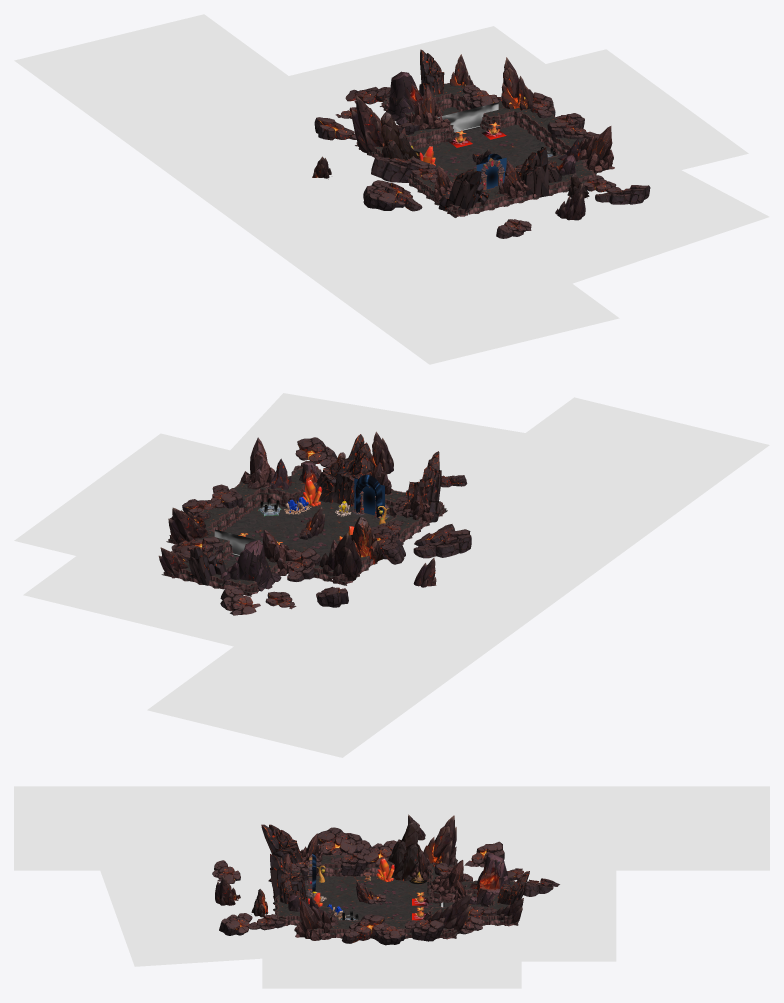
File: LevelMap_1070103.glb
3 views of the same model, one above another, from view 1: azimuth 30°, elevation 25°; view 2: azimuth 150°, elevation 25°; view 3: azimuth 270°, elevation 25° (orthographic). The views are drawn at different scales.
Parts seen in each view (by area): view 1: EnvCavern_Detail__Lava_1__u1616, EnvCavern_Detail__Lava_5__u1767, EnvCavern_Detail__Lava__u2083, EnvCavern_Detail__Lava_4__u1609, New_Terrain_2__u2321, EnvCavern_Detail__Lava_2__u2191, EnvCavern_Detail__Lava_3__u2456, EnvCavern_Detail__Rock___4__u1437, EnvCavern_Detail__Rock___6__u1628, EnvCavern_Detail__Rock___2__u1672, EnvCavern_Detail__Rock___4__u2497, EnvCavern_Detail__Rock___5__u1691 (+12 smaller); view 2: EnvCavern_Detail__Lava_1__u1616, EnvCavern_Detail__Lava_5__u1767, EnvCavern_Detail__Lava__u2083, EnvCavern_Detail__Lava_4__u1609, EnvCavern_Detail__Lava_3__u2456, New_Terrain_2__u2321, EnvCavern_Detail__Lava_2__u2191, EnvCavern_Detail__Rock___6__u1628, EnvCavern_Detail__Rock___4__u2497, EnvCavern_Detail__Rock___4__u1437, EnvCavern_Detail__Rock___2__u1672, EnvCavern_Detail__Rock___3__u1907 (+10 smaller); view 3: EnvCavern_Detail__Lava_1__u1616, EnvCavern_Detail__Lava_5__u1767, EnvCavern_Detail__Lava__u2083, EnvCavern_Detail__Lava_4__u1609, New_Terrain_2__u2321, EnvCavern_Detail__Lava_3__u2456, EnvCavern_Detail__Lava_2__u2191, EnvCavern_Detail__Rock___1__u2157, EnvCavern_Detail__Rock___6__u1628, EnvCavern_Detail__Rock___2__u1672, EnvCavern_Detail__Rock___5__u1691, EnvCavern_Detail__Rock___4__u1437 (+19 smaller).
Part boxes in pixels (bbox=[...]): EnvCavern_Detail__Lava_1__u1616: bbox=[14, 14, 619, 364]; EnvCavern_Detail__Lava_5__u1767: bbox=[399, 151, 769, 297]; EnvCavern_Detail__Lava__u2083: bbox=[474, 49, 748, 185]; EnvCavern_Detail__Lava_4__u1609: bbox=[218, 26, 553, 137]; New_Terrain_2__u2321: bbox=[413, 124, 558, 182]; EnvCavern_Detail__Lava_2__u2191: bbox=[248, 65, 398, 152]; EnvCavern_Detail__Lava_3__u2456: bbox=[393, 29, 571, 97]; EnvCavern_Detail__Rock___4__u1437: bbox=[438, 169, 489, 212]; EnvCavern_Detail__Rock___6__u1628: bbox=[386, 71, 422, 124]; EnvCavern_Detail__Rock___2__u1672: bbox=[352, 95, 383, 153]; EnvCavern_Detail__Rock___4__u2497: bbox=[514, 147, 548, 197]; EnvCavern_Detail__Rock___5__u1691: bbox=[578, 126, 614, 172]; EnvCavern_Detail__Lava_1__u1616: bbox=[147, 397, 769, 757]; EnvCavern_Detail__Lava_5__u1767: bbox=[208, 393, 587, 524]; EnvCavern_Detail__Lava__u2083: bbox=[14, 433, 294, 575]; EnvCavern_Detail__Lava_4__u1609: bbox=[23, 550, 368, 664]; EnvCavern_Detail__Lava_3__u2456: bbox=[35, 530, 176, 619]; New_Terrain_2__u2321: bbox=[224, 497, 393, 557]; EnvCavern_Detail__Lava_2__u2191: bbox=[192, 573, 370, 657]; EnvCavern_Detail__Rock___6__u1628: bbox=[220, 540, 281, 591]; EnvCavern_Detail__Rock___4__u2497: bbox=[325, 434, 374, 506]; EnvCavern_Detail__Rock___4__u1437: bbox=[405, 451, 441, 522]; EnvCavern_Detail__Rock___2__u1672: bbox=[319, 532, 361, 580]; EnvCavern_Detail__Rock___3__u1907: bbox=[413, 529, 471, 558]; EnvCavern_Detail__Lava_1__u1616: bbox=[14, 786, 769, 870]; EnvCavern_Detail__Lava_5__u1767: bbox=[91, 835, 314, 966]; EnvCavern_Detail__Lava__u2083: bbox=[262, 931, 521, 988]; EnvCavern_Detail__Lava_4__u1609: bbox=[506, 839, 616, 961]; New_Terrain_2__u2321: bbox=[304, 876, 439, 920]; EnvCavern_Detail__Lava_3__u2456: bbox=[453, 916, 615, 956]; EnvCavern_Detail__Lava_2__u2191: bbox=[456, 850, 615, 884]; EnvCavern_Detail__Rock___1__u2157: bbox=[388, 821, 423, 880]; EnvCavern_Detail__Rock___6__u1628: bbox=[469, 852, 509, 906]; EnvCavern_Detail__Rock___2__u1672: bbox=[423, 815, 456, 866]; EnvCavern_Detail__Rock___5__u1691: bbox=[294, 900, 338, 940]; EnvCavern_Detail__Rock___4__u1437: bbox=[261, 824, 302, 863].
Bounding box in the file's own units: 62.12 × 9.29 × 98.09.
Materials: 37 (36 with a texture image).
